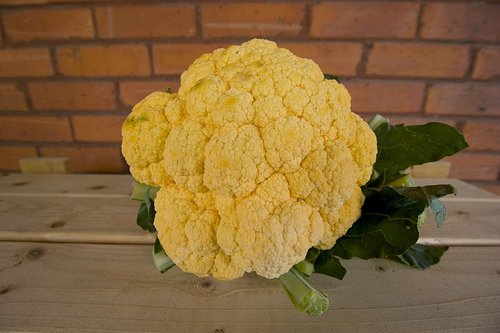cauliflower: (120, 38, 378, 282)
